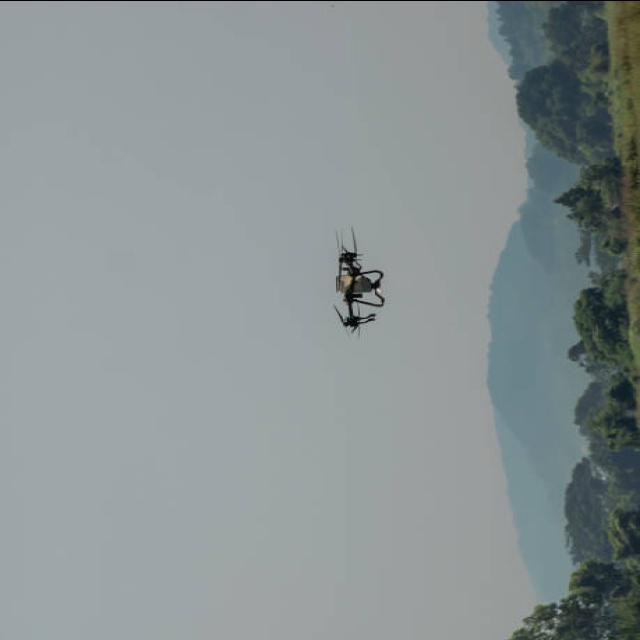drone: (332, 224, 384, 337)
